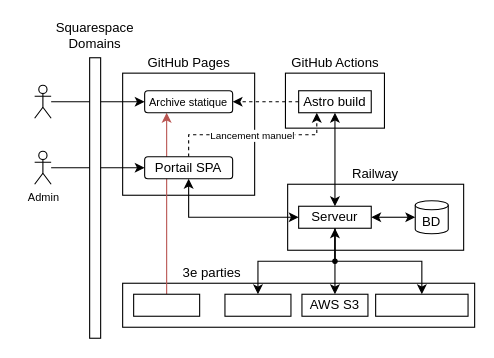
Image size: 494x358. Some labels were removed from this diagram. Each missing label, with the centre of its shape:
"Google OAuth" belongs at pixel 421 304.
"Maps API" belongs at pixel 166 304.
"SendGrid" belongs at pixel 257 304.
"Utilisateur" belongs at pixel 42 101.
